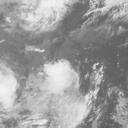cyclone: (38, 63, 92, 119)
